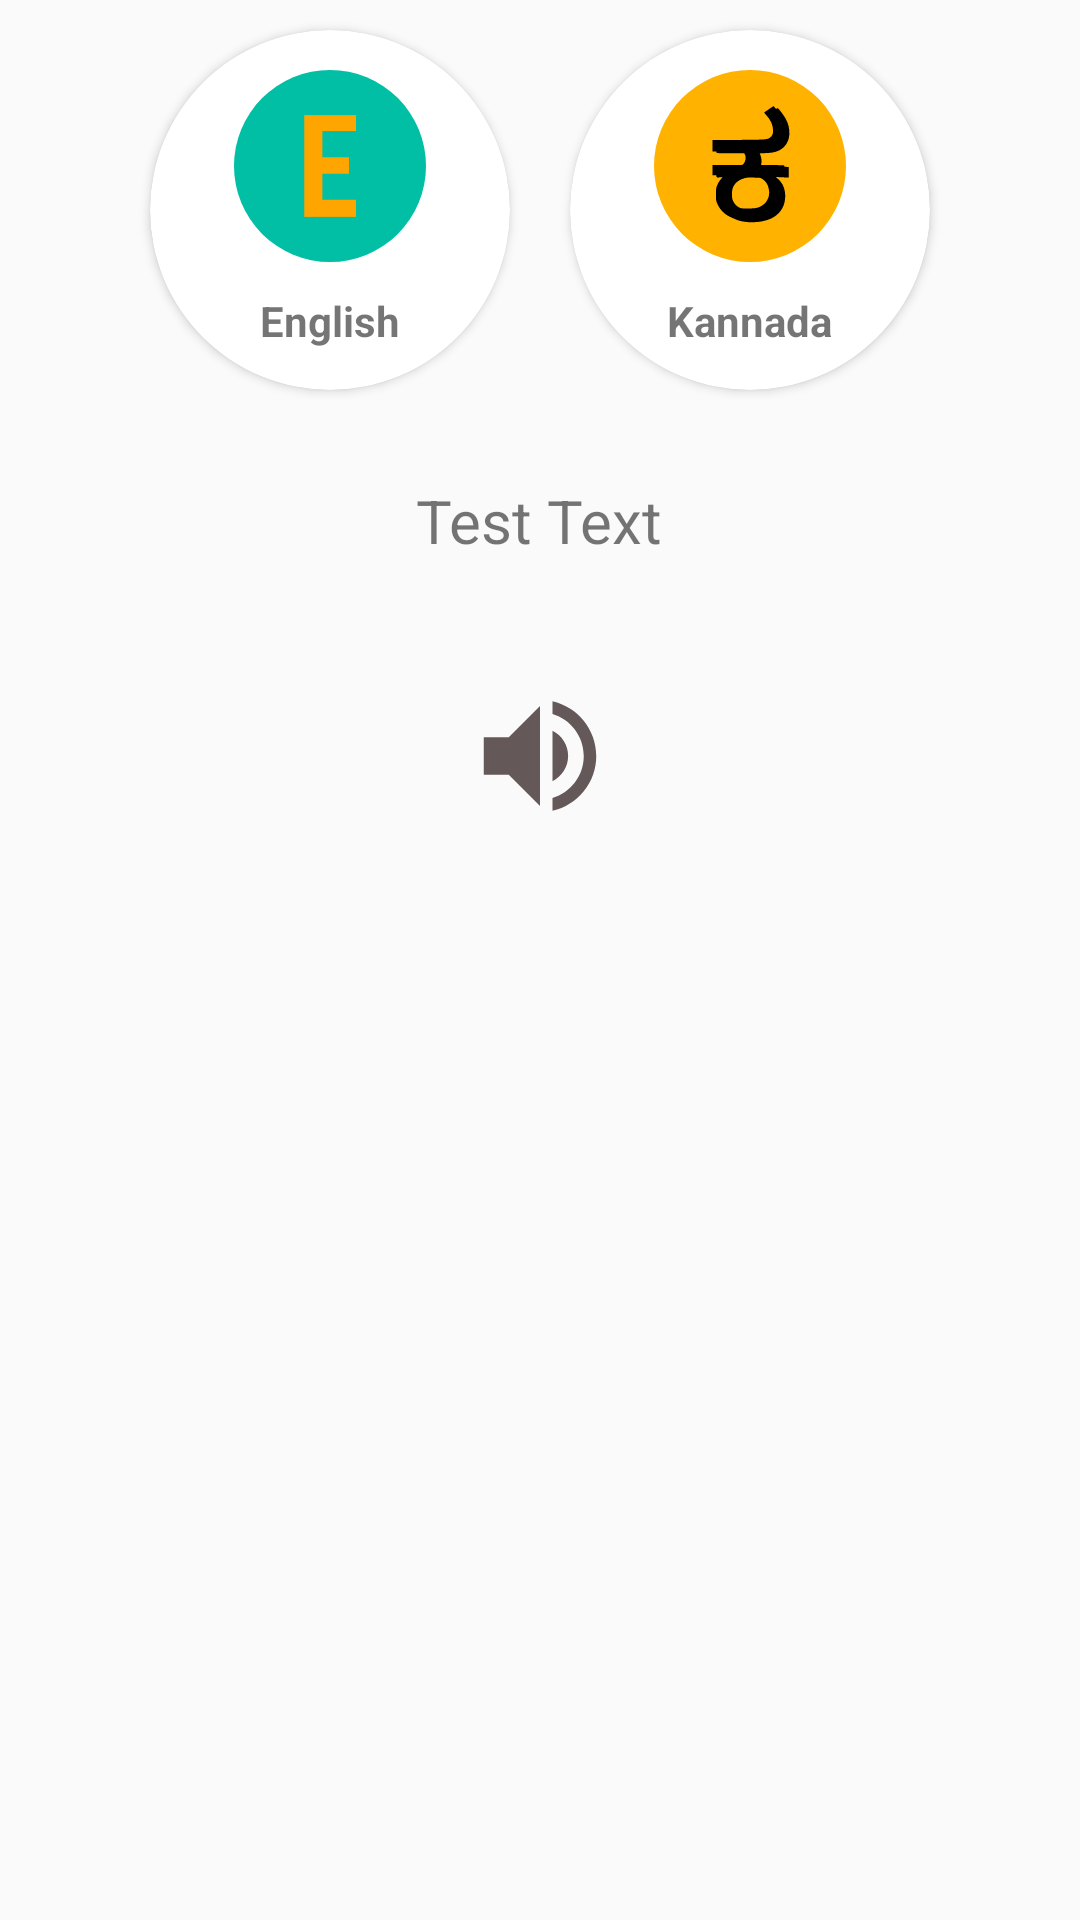

Icon click points for this 1080 x 1920 phone screenshot, format (x,y):
volume up: (540,756)
